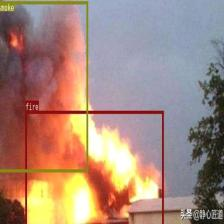fire: (25, 110, 163, 224)
smoke: (0, 1, 88, 172)
